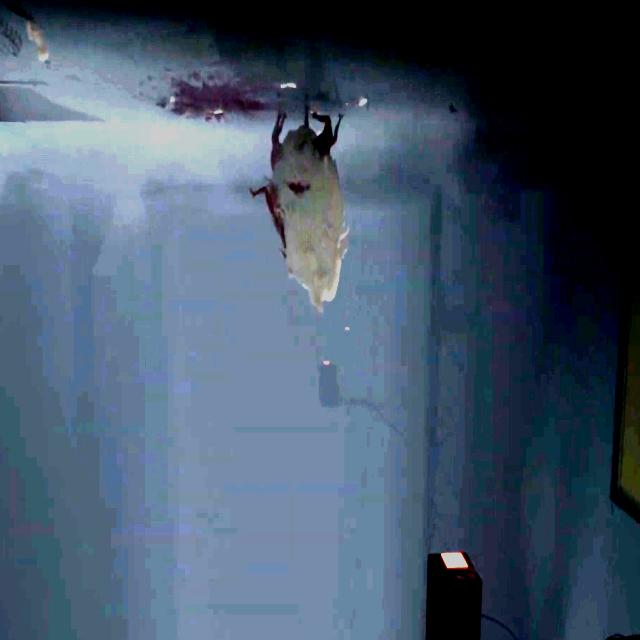blob: (249, 103, 350, 319)
interactible: (426, 550, 482, 640), (318, 357, 341, 407)
structure: (422, 179, 484, 640)
